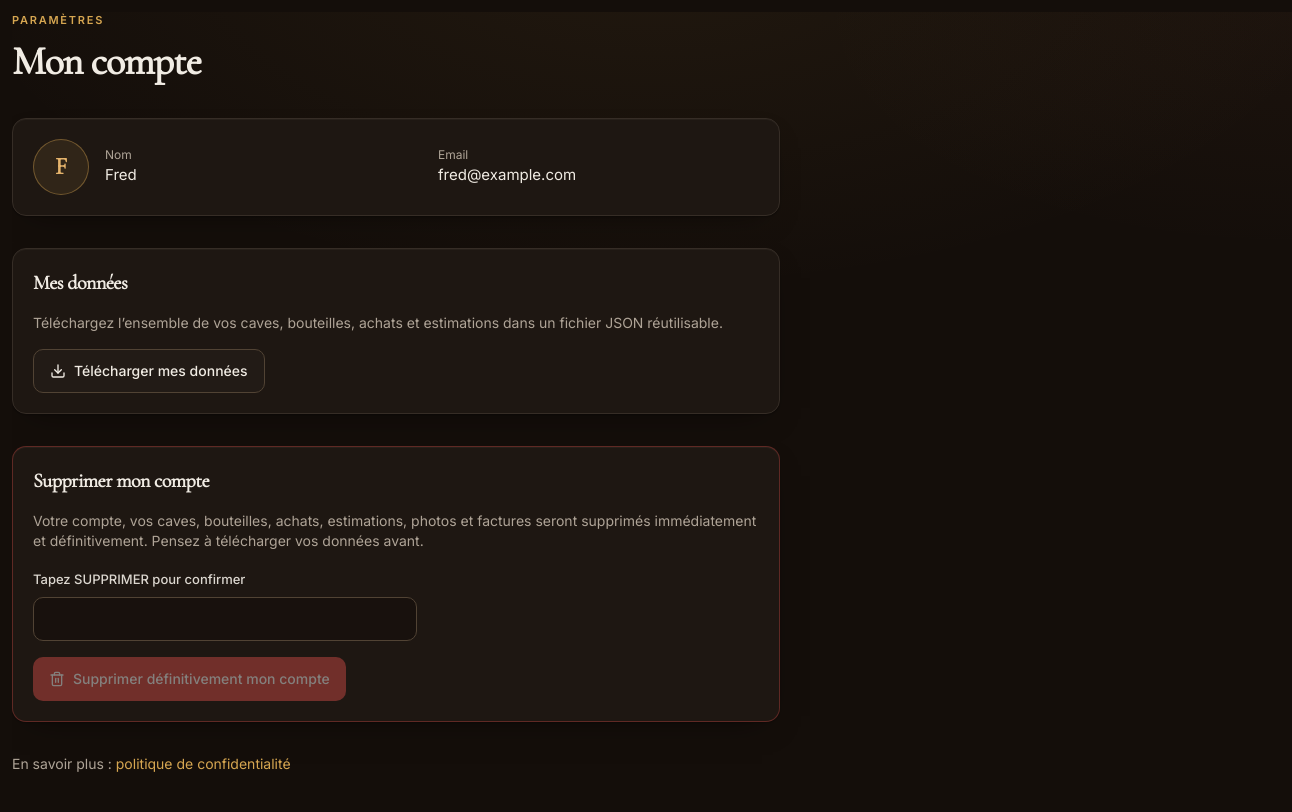
it: AccountPage › affiche l’erreur si la suppression échoue
Type "SUPPRIMER" into the field labelled "Tapez SUPPRIMER pour confirmer". click: (225, 619)
box: [33,597,417,641]
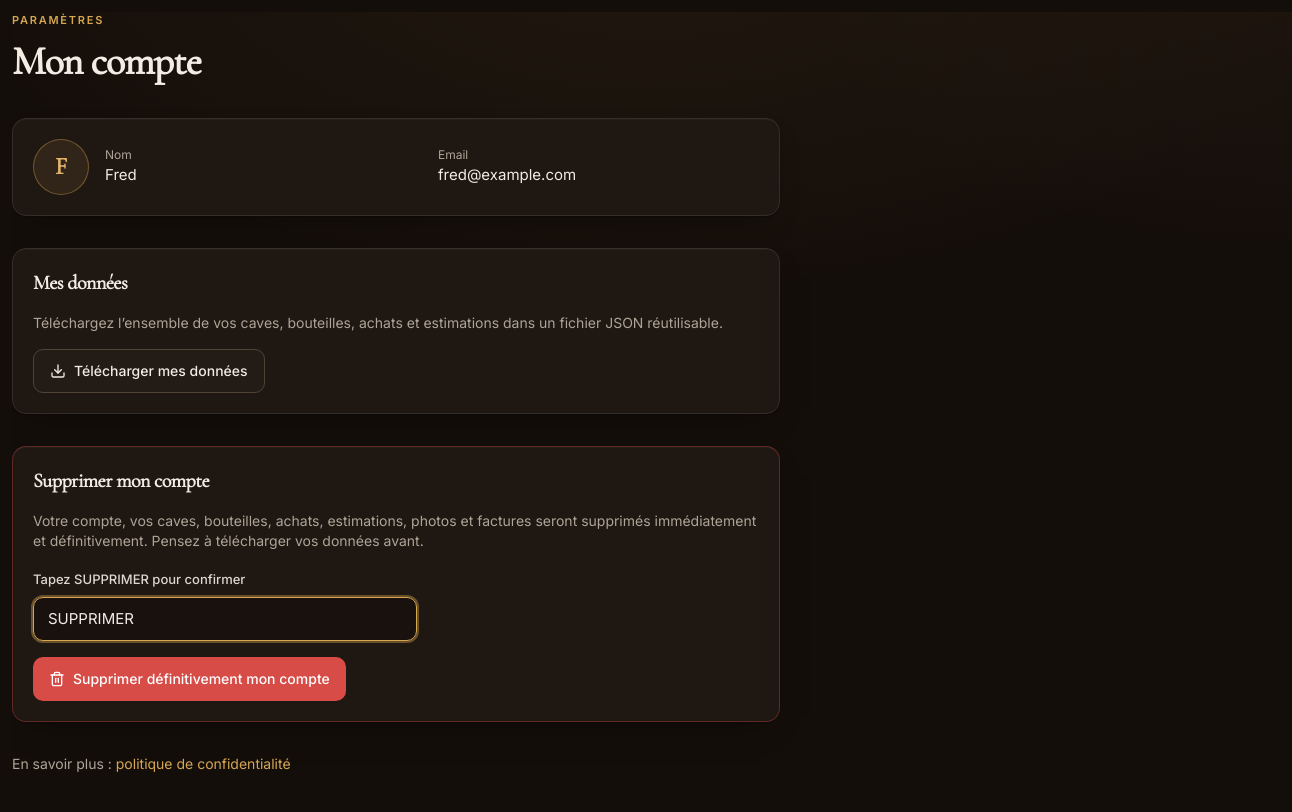
Click the button "Supprimer définitivement mon compte". click: (189, 679)
box: [33,657,346,701]
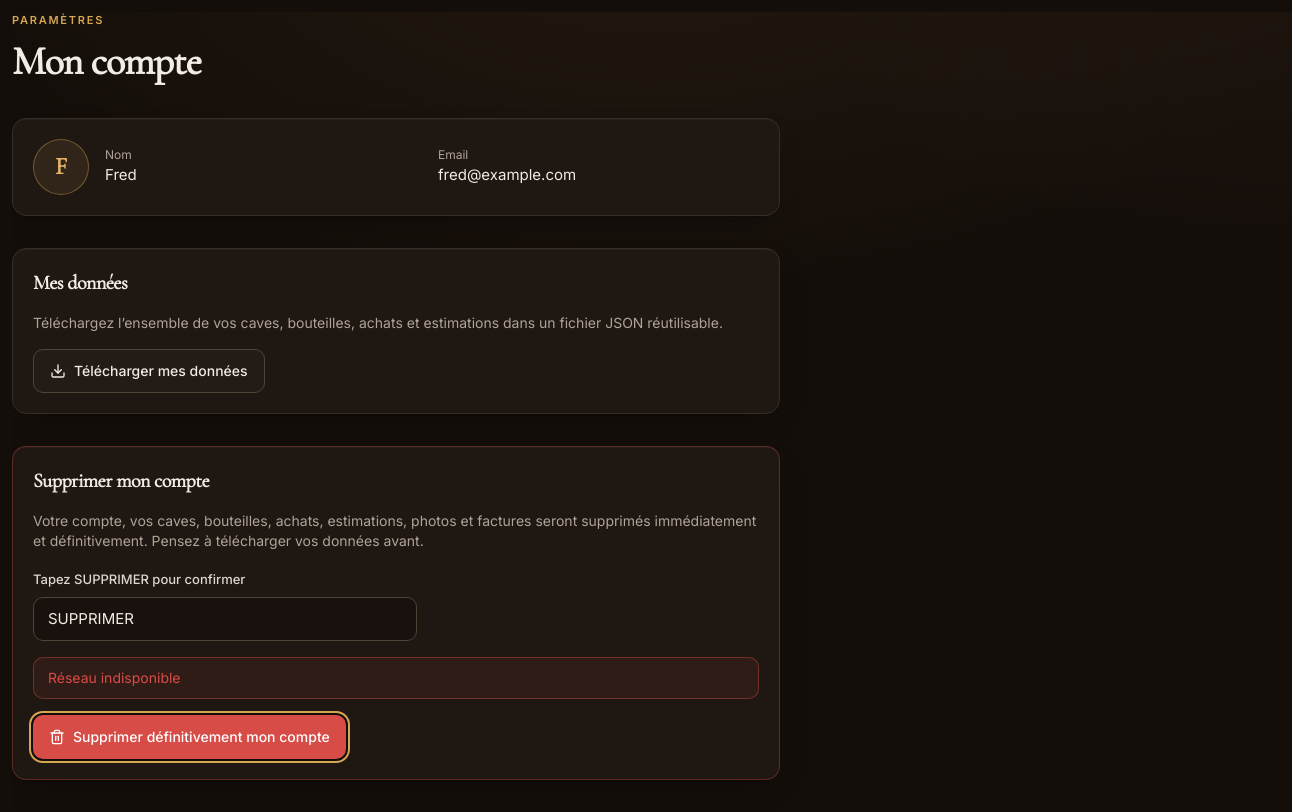
Result: the message reads "Réseau indisponible" at [48,669,180,686]
